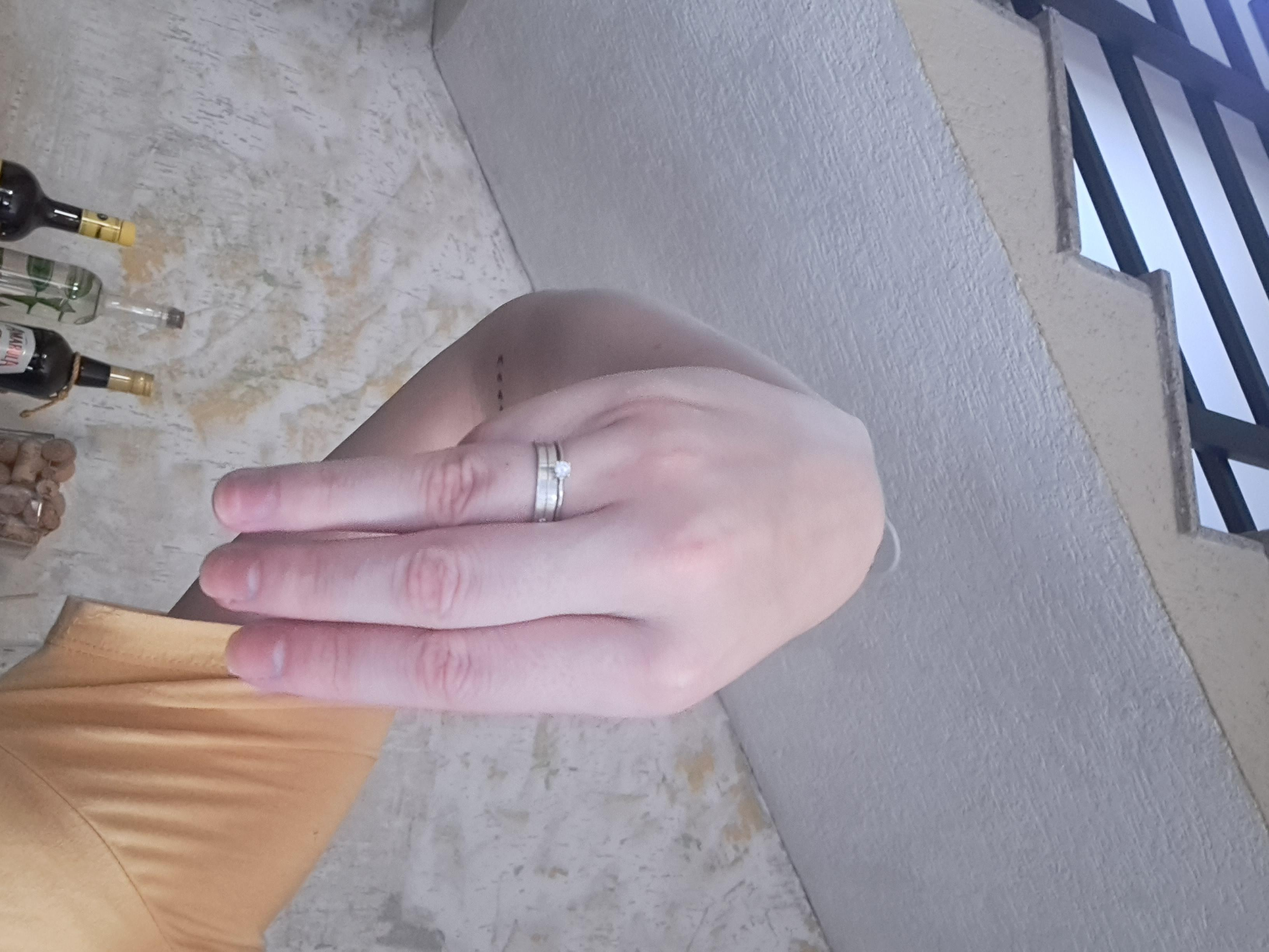M: (472, 271, 980, 820)
